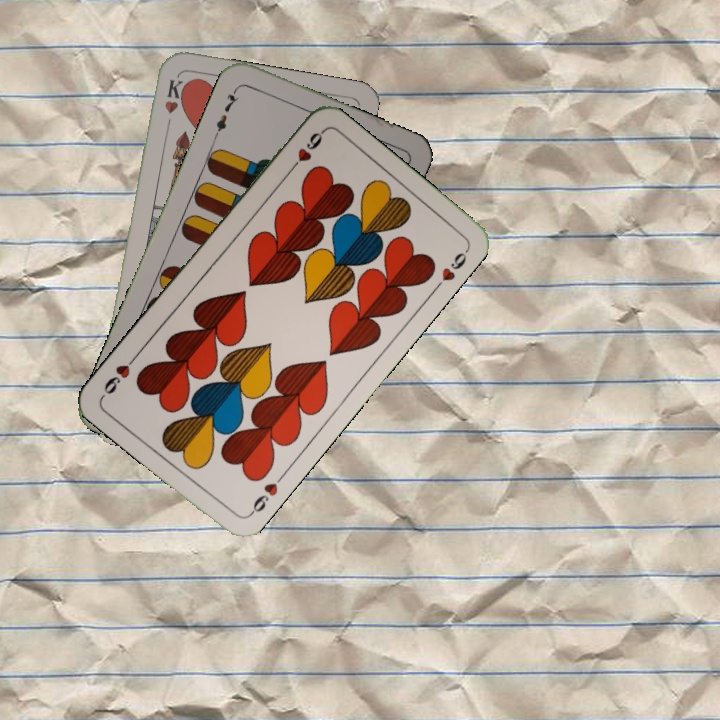E7: (210, 83, 242, 140)
H9: (284, 127, 327, 176), (245, 470, 287, 519)
HK: (160, 75, 186, 133)
